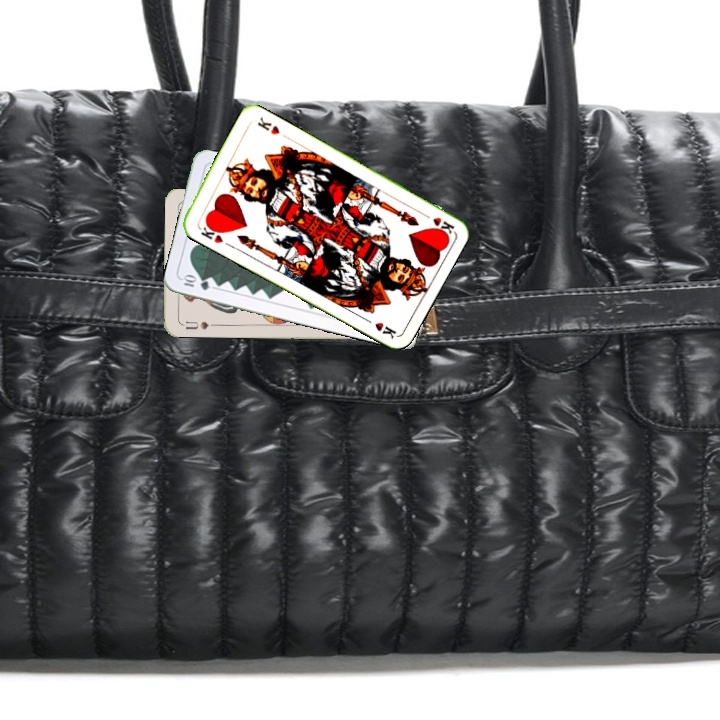G10: (178, 271, 212, 293)
HK: (417, 208, 456, 236), (194, 219, 226, 246)
SU: (177, 317, 218, 332)
